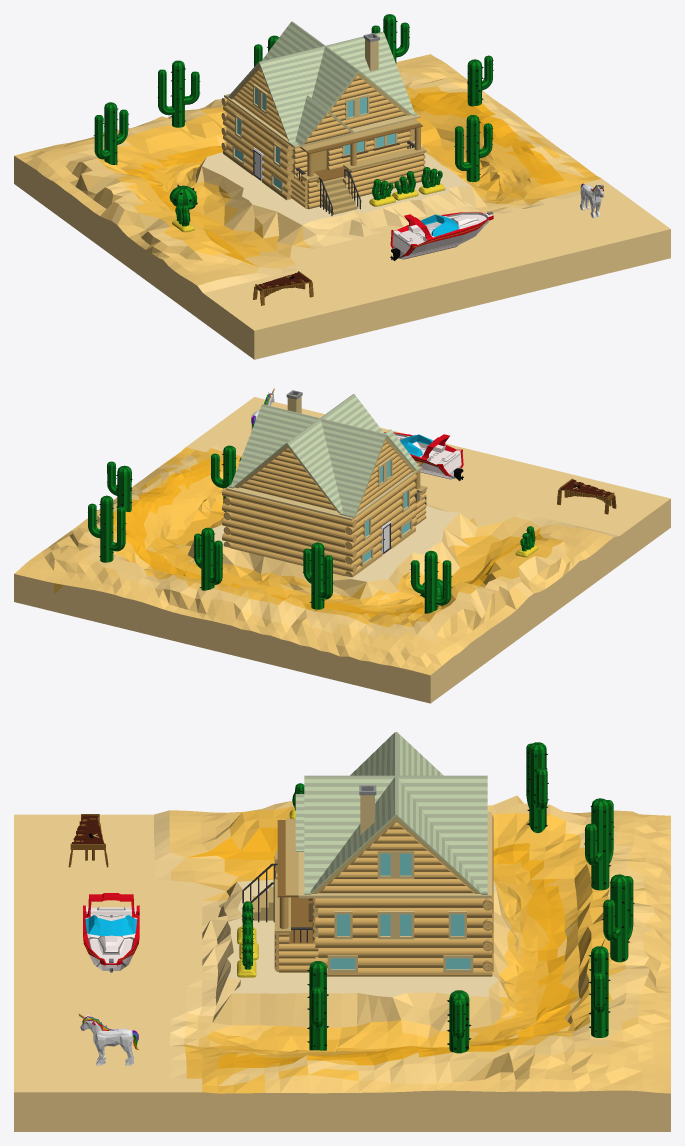
3 renders of one model, top to bottom at view 1: azimuth 30°, elevation 25°; view 2: azimuth 150°, elevation 25°; view 3: azimuth 270°, elevation 25°, orthographic. The views are drawn at different scales.
Parts seen in each view (by area): view 1: Cube.001, Cube.1516, VEHICLES_BOAT, Cylinder.037, Cylinder.044, Cylinder.045, Cylinder.038, Cylinder.042, OBJRANDOM_MARIMBA, ANIMAL_UNICORNIO, Cylinder.039, Cylinder.041 (+2 smaller); view 2: Cube.001, Cube.1516, VEHICLES_BOAT, Cylinder.042, Cylinder.045, Cylinder.044, Cylinder.043, Cylinder.038, OBJRANDOM_MARIMBA, Cylinder.037; view 3: Cube.001, Cube.1516, VEHICLES_BOAT, Cylinder.043, Cylinder.044, Cylinder.045, Cylinder.042, Cylinder.037, ANIMAL_UNICORNIO, Cylinder.038, OBJRANDOM_MARIMBA, Cylinder.041.
Part boxes in pixels (box(x1,y1,x2,y2)): Cube.001: box(14, 54, 670, 359); Cube.1516: box(221, 21, 426, 215); VEHICLES_BOAT: box(390, 211, 493, 260); Cylinder.037: box(454, 115, 493, 182); Cylinder.044: box(157, 60, 200, 127); Cylinder.045: box(93, 102, 129, 164); Cylinder.038: box(467, 55, 493, 106); Cylinder.042: box(371, 14, 409, 63); OBJRANDOM_MARIMBA: box(253, 271, 313, 305); ANIMAL_UNICORNIO: box(580, 183, 603, 218); Cylinder.039: box(369, 179, 395, 206); Cylinder.041: box(418, 167, 445, 194); Cube.001: box(14, 397, 670, 703); Cube.1516: box(222, 390, 427, 577); VEHICLES_BOAT: box(384, 432, 463, 480); Cylinder.042: box(88, 495, 126, 562); Cylinder.045: box(410, 550, 452, 613); Cylinder.044: box(303, 542, 333, 609); Cylinder.043: box(193, 527, 222, 590); Cylinder.038: box(107, 461, 132, 512); OBJRANDOM_MARIMBA: box(557, 478, 616, 514); Cylinder.037: box(211, 445, 241, 512); Cube.001: box(14, 795, 670, 1131); Cube.1516: box(242, 732, 493, 976); VEHICLES_BOAT: box(83, 893, 139, 972); Cylinder.043: box(602, 874, 634, 962); Cylinder.044: box(584, 798, 614, 890); Cylinder.045: box(526, 742, 548, 833); Cylinder.042: box(588, 946, 610, 1037); Cylinder.037: box(307, 961, 328, 1050); ANIMAL_UNICORNIO: box(78, 1013, 138, 1065); Cylinder.038: box(447, 990, 471, 1053); OBJRANDOM_MARIMBA: box(68, 814, 108, 867); Cylinder.041: box(237, 934, 256, 977).
Bounding box in the file's own units: 4002 × 1627 × 4001.
45 materials, 3 textured.
